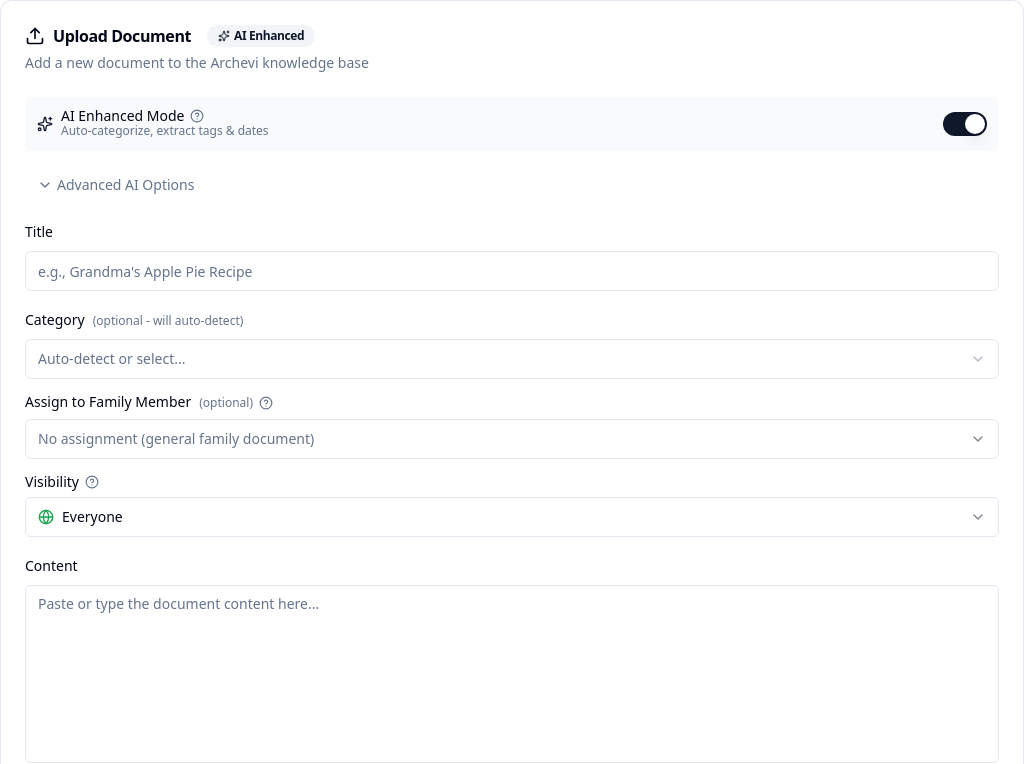
it: DocumentUpload › Form Validation › shows error when content is empty and no file uploaded
Type "Test Document" into the field labelled "Title" at coordinates (512, 271), box [25,251,999,291]
(page scrolled)
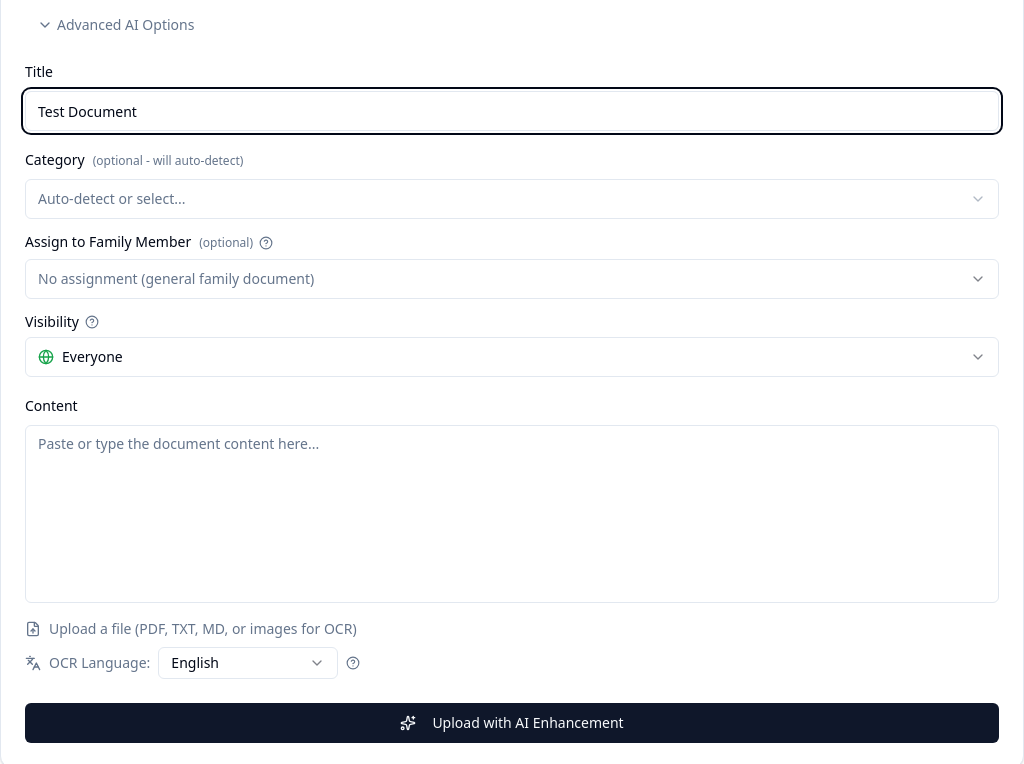
Click the button "Upload with AI Enhancement" at coordinates (512, 723), box [25,703,999,743]
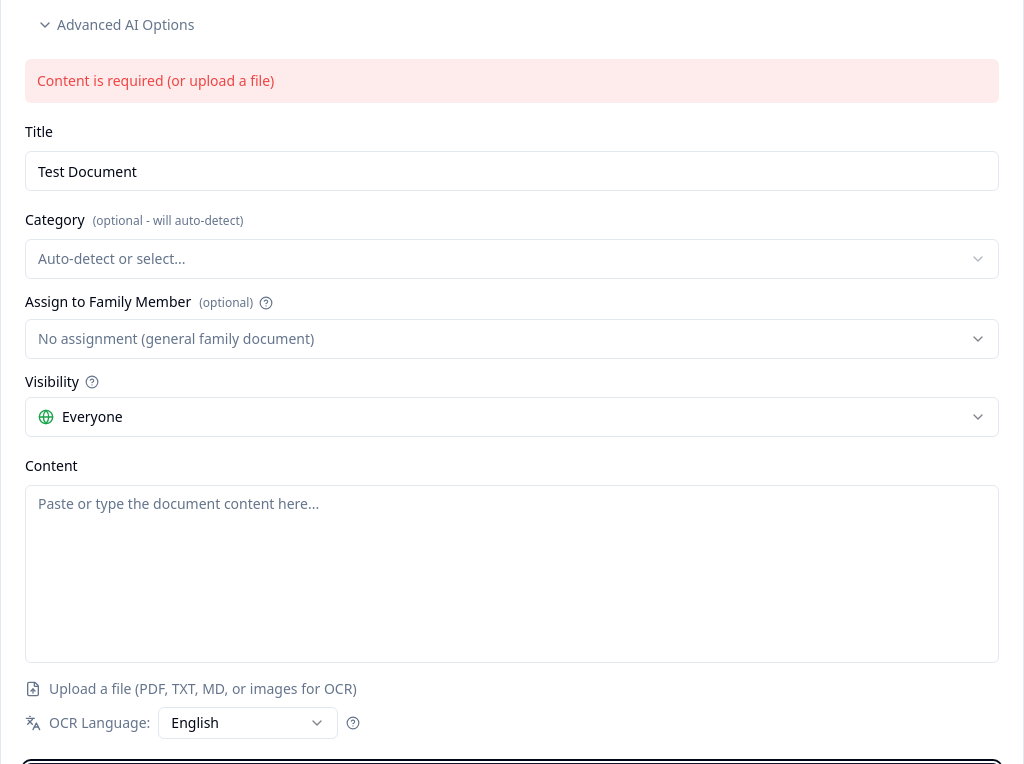
Expected: the text "Content is required (or upload a file)" is shown, [25,59,999,103]
